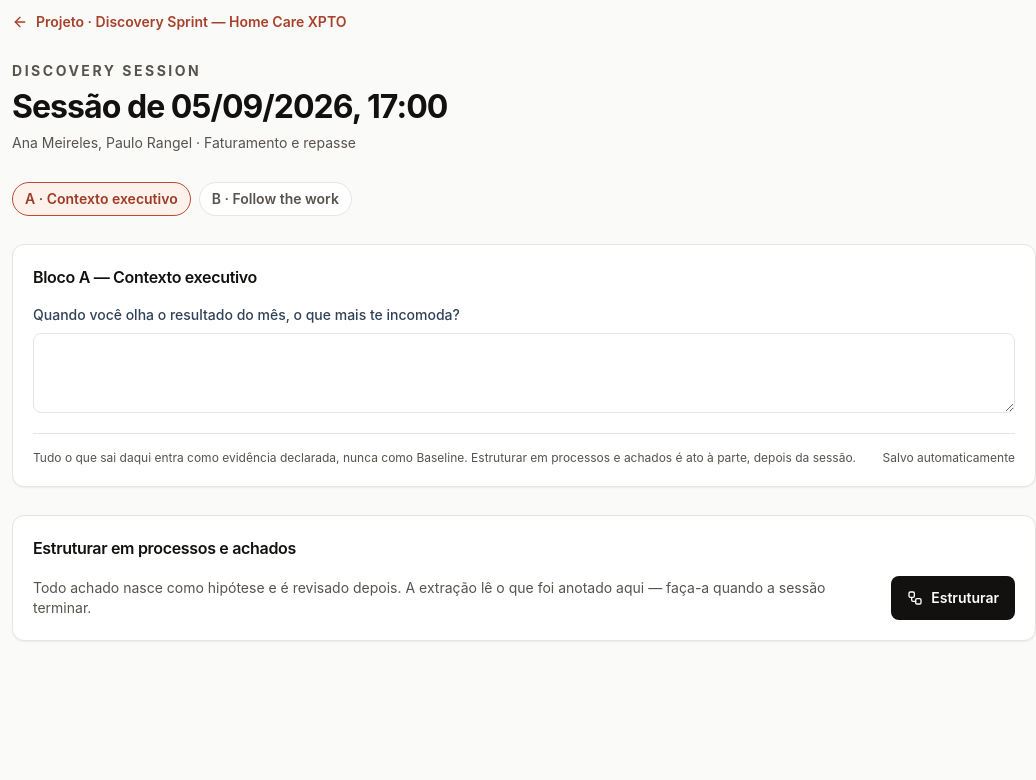
trocar de bloco salva o anterior antes, sem esperar os 2 s
Expected: the heading "Sessão de 05/09/2026, 17:00" is shown, [12,87,447,126]
Type "Atrasa." into the text box labelled "Quando você olha o resultado do mês, o que mais te incomoda?".
click(524, 373); type("Atrasa.")  # box [33,333,1015,413]
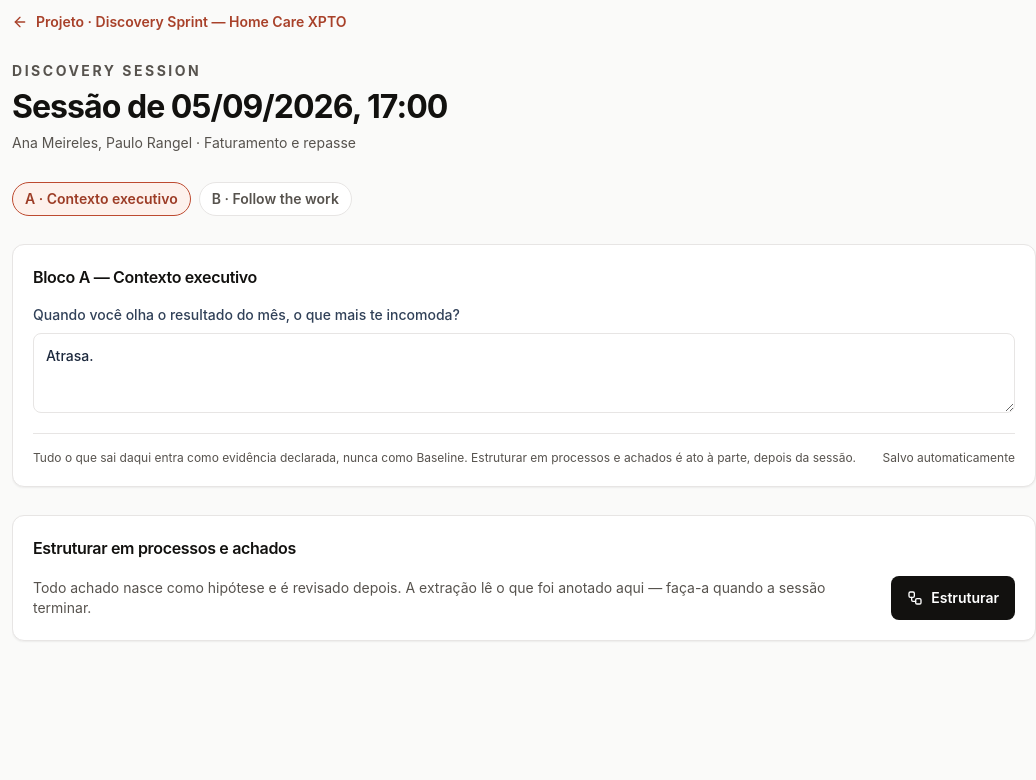
Click the button "B · Follow the work".
click(275, 199)  # box [199,182,352,216]
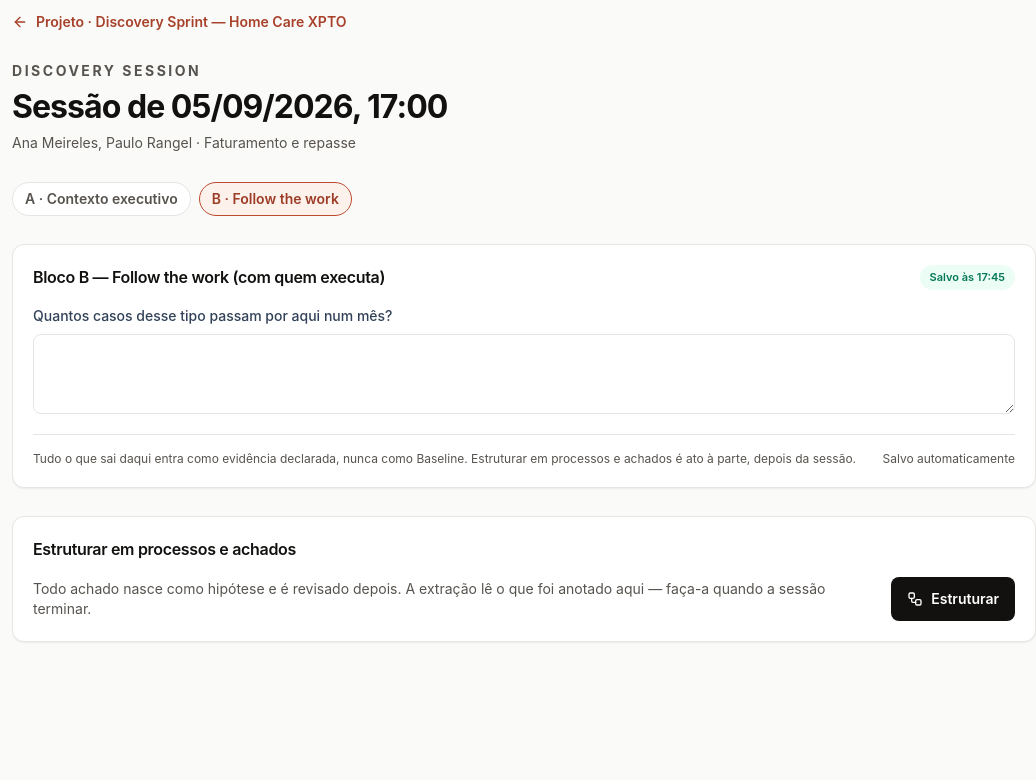
Result: the heading "Bloco B — Follow the work (com quem executa)" is shown at [33,265,385,289]
